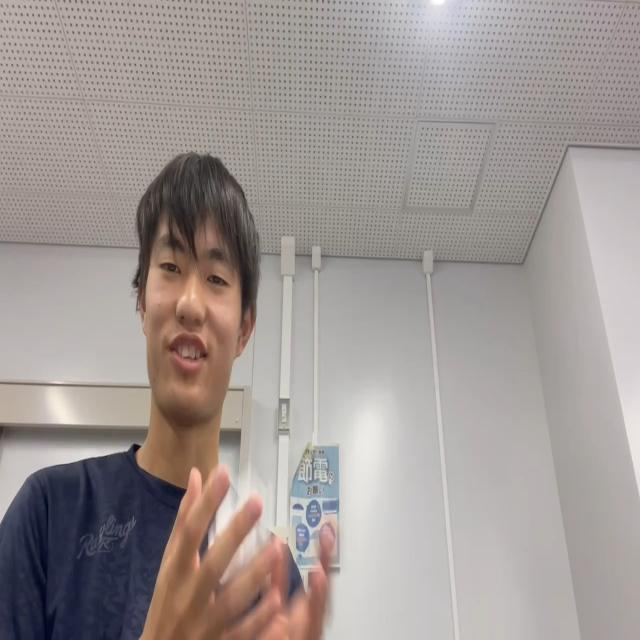paper: (210, 473, 287, 583)
